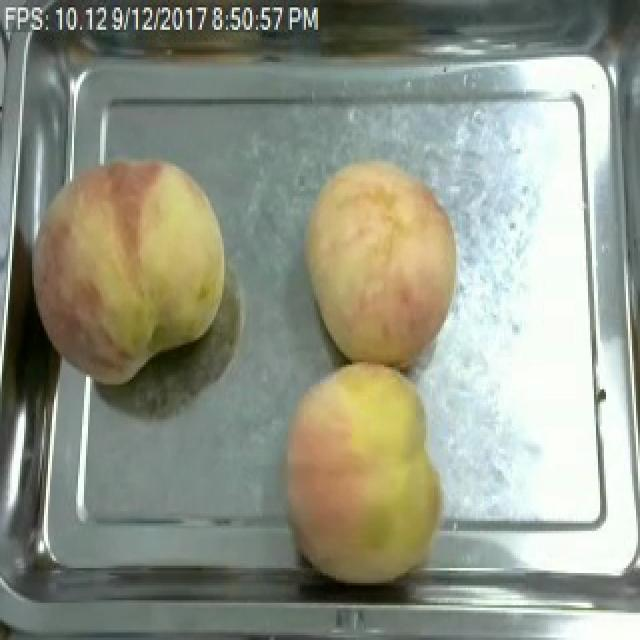Fruit: (16, 146, 236, 397), (270, 355, 456, 593), (296, 151, 468, 372)
